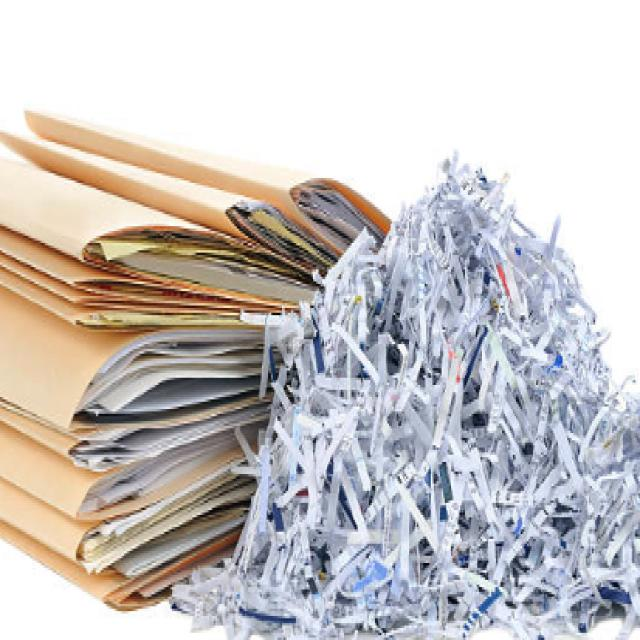KertasBekas: (171, 149, 638, 638), (0, 106, 392, 611)
